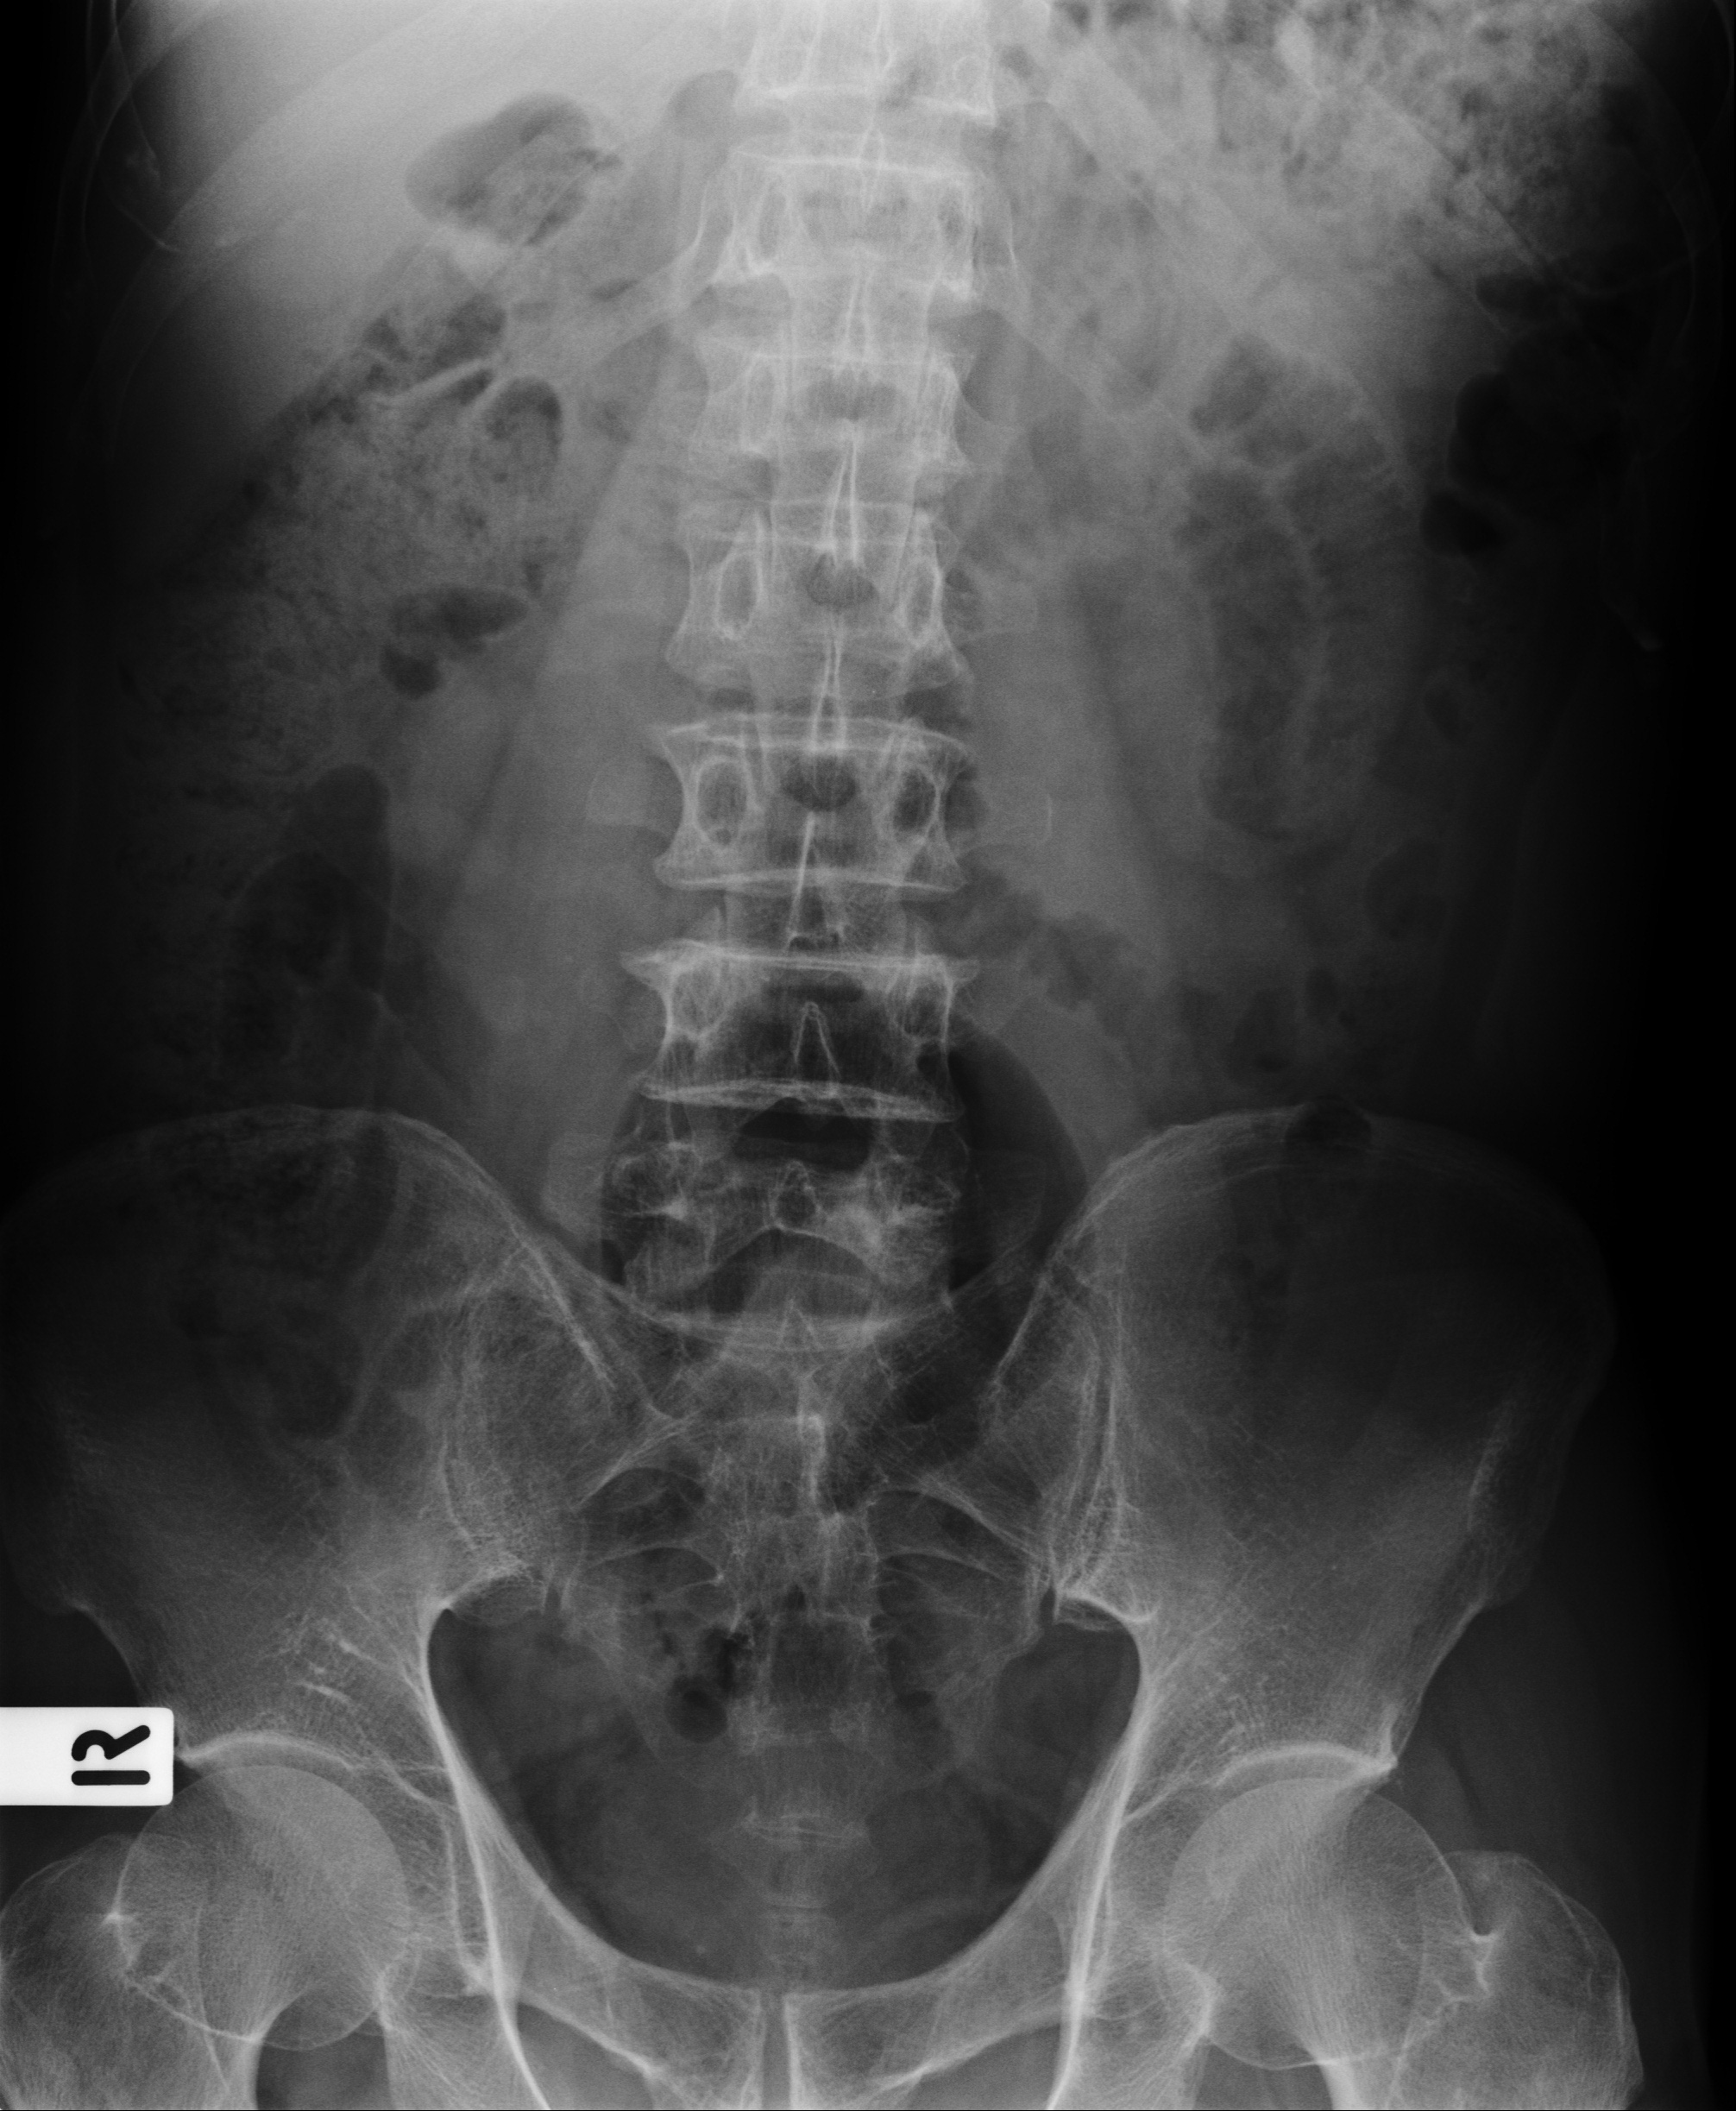lumbar scoliosis: (642, 18, 973, 1352)
